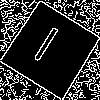I: (25, 24, 62, 72)
